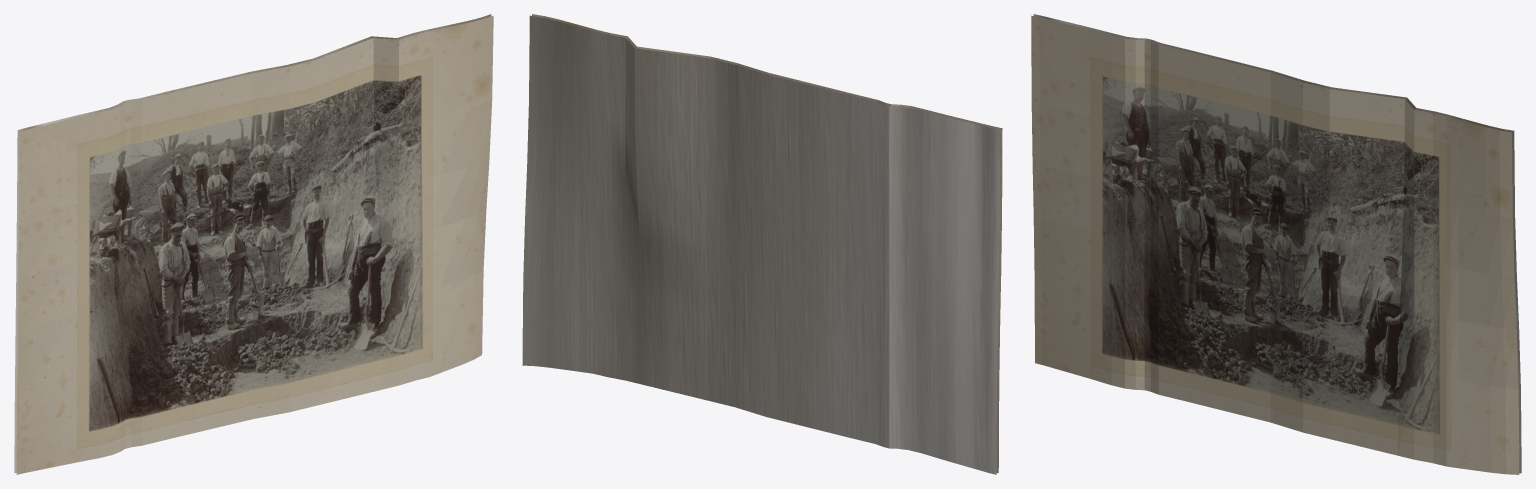
Rendered from model_Banks.fbx.
3 renders of one model, left to right at view 1: azimuth 30°, elevation 25°; view 2: azimuth 150°, elevation 25°; view 3: azimuth 330°, elevation 25°, orthographic. The views are drawn at different scales.
Parts seen in each view (by area): view 1: Obelisk; view 2: Obelisk; view 3: Obelisk.
Boxes of the visible parts, x1=… form: Obelisk: x1=14, y1=14, x2=493, y2=474; Obelisk: x1=522, y1=14, x2=1002, y2=474; Obelisk: x1=1031, y1=14, x2=1521, y2=474.
Size of the model in its own units: 30.16 by 21 by 1.43.
